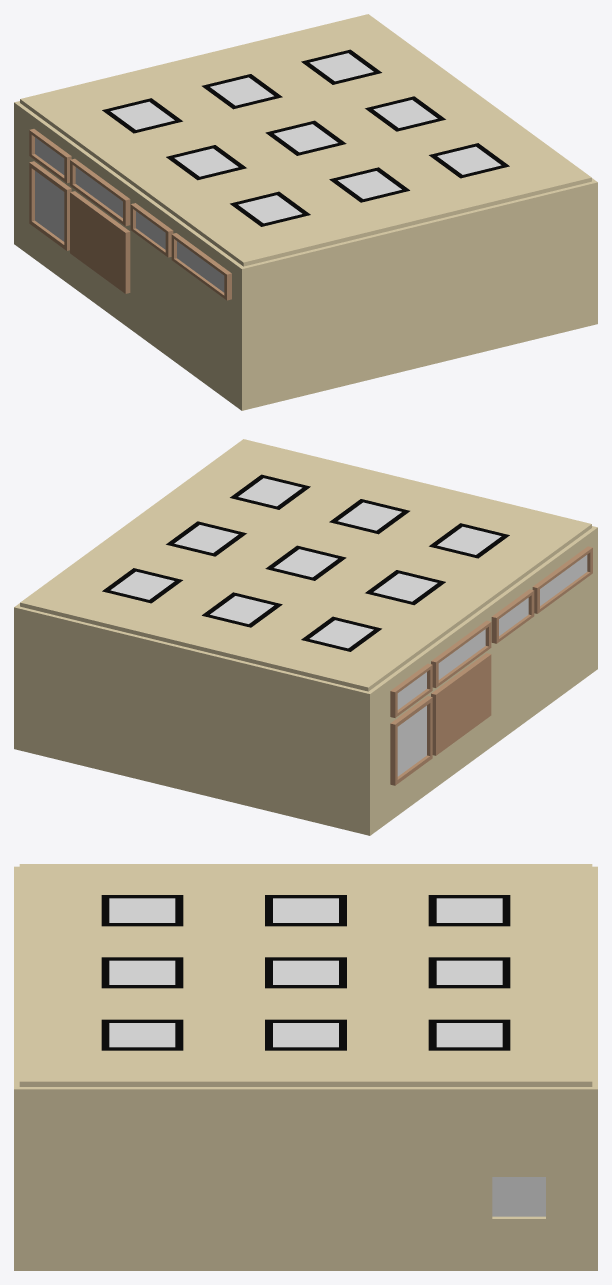
Rendered from kantor guru.fbx.
3 views of the same model, one above another, from view 1: azimuth 30°, elevation 25°; view 2: azimuth 150°, elevation 25°; view 3: azimuth 270°, elevation 25° (orthographic). The views are drawn at different scales.
Parts seen in each view (by area): view 1: atap, dinding, jendela; view 2: atap, dinding, jendela; view 3: atap, dinding, pintu.
Part boxes in pixels (box(x1,y1,x2,y2)): atap: box(20, 14, 591, 266); dinding: box(14, 101, 597, 410); jendela: box(29, 129, 231, 300); atap: box(20, 439, 591, 691); dinding: box(14, 526, 597, 835); jendela: box(390, 546, 592, 785); atap: box(19, 864, 592, 1086); dinding: box(14, 866, 597, 1270); pintu: box(492, 1177, 545, 1216).
Bounding box in the file's own units: 933 × 361 × 1020.
